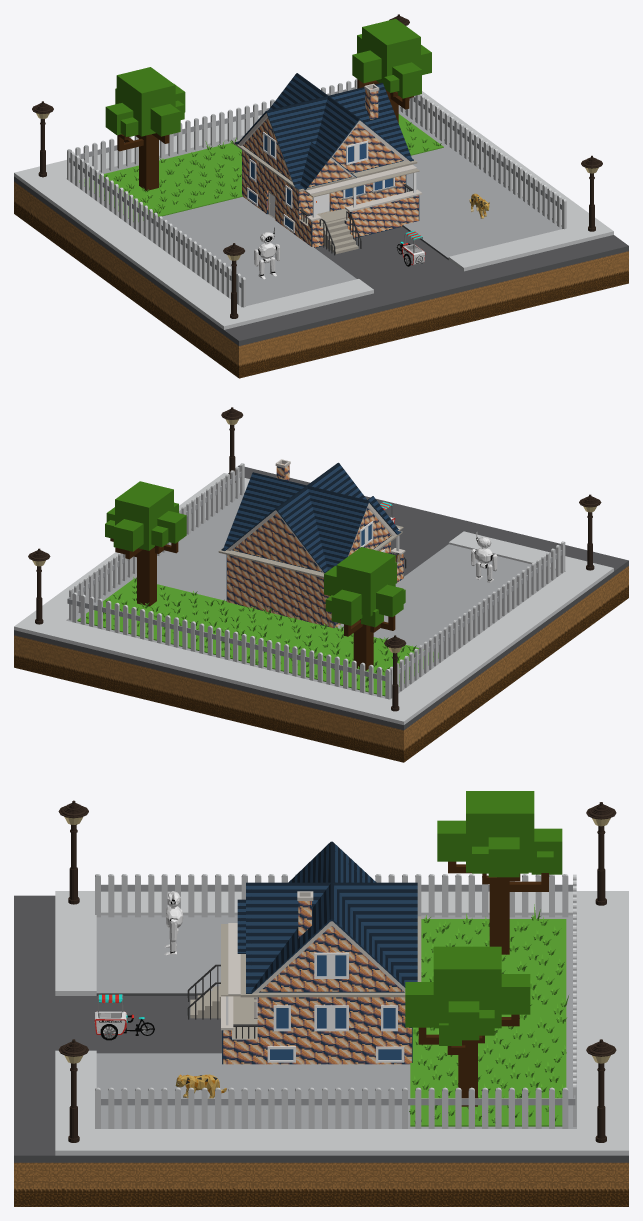
The picture shows the model from 3 angles, top to bottom: view 1: azimuth 30°, elevation 25°; view 2: azimuth 150°, elevation 25°; view 3: azimuth 270°, elevation 25°; orthographic projection. The views are drawn at different scales.
Parts seen in each view (by area): view 1: Cube.004, Cube.430, OBJRANDOM_PLATZEEBOT, VEHICLES_SNOWBAL_BIKE; view 2: Cube.004, Cube.430, OBJRANDOM_PLATZEEBOT; view 3: Cube.004, Cube.430, VEHICLES_SNOWBAL_BIKE, OBJRANDOM_PLATZEEBOT, ANIMAL_JAGUAR.
Part boxes in pixels (<box>): Cube.004: <box>14,14,628,378</box>; Cube.430: <box>233,73,422,255</box>; OBJRANDOM_PLATZEEBOT: <box>254,227,280,279</box>; VEHICLES_SNOWBAL_BIKE: <box>396,230,425,266</box>; Cube.004: <box>14,407,628,762</box>; Cube.430: <box>218,459,406,627</box>; OBJRANDOM_PLATZEEBOT: <box>471,532,497,582</box>; Cube.004: <box>14,791,628,1206</box>; Cube.430: <box>187,841,421,1064</box>; VEHICLES_SNOWBAL_BIKE: <box>94,994,154,1040</box>; OBJRANDOM_PLATZEEBOT: <box>164,891,183,955</box>; ANIMAL_JAGUAR: <box>175,1074,226,1098</box>.
Size of the model in its own units: 4000 by 1579 by 4000.
38 materials, 4 textured.
